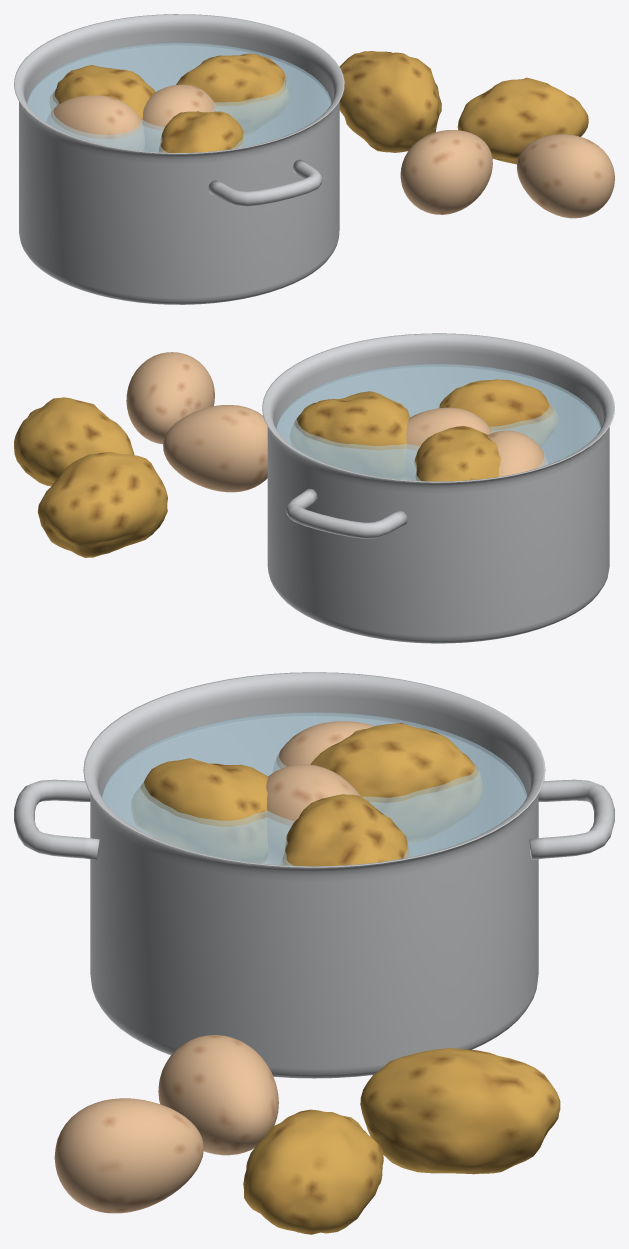
The model's file is paso-1.glb.
3 renders of one model, top to bottom at view 1: azimuth 30°, elevation 25°; view 2: azimuth 150°, elevation 25°; view 3: azimuth 270°, elevation 25°, orthographic. The views are drawn at different scales.
Parts seen in each view (by area): view 1: paso-1-0, paso-1-3, paso-1-9, paso-1-10, paso-1-12, paso-1-11, paso-1-4, paso-1-8, paso-1-6, paso-1-5, paso-1-7, paso-1-2; view 2: paso-1-0, paso-1-3, paso-1-9, paso-1-4, paso-1-11, paso-1-10, paso-1-12, paso-1-6, paso-1-5, paso-1-1, paso-1-7, paso-1-8; view 3: paso-1-0, paso-1-3, paso-1-9, paso-1-10, paso-1-12, paso-1-5, paso-1-6, paso-1-11, paso-1-4, paso-1-7, paso-1-1, paso-1-2 (+1 smaller).
Boxes of the visible parts, x1,y1,x2,y2 form: paso-1-0: [14, 14, 344, 304]; paso-1-3: [27, 42, 331, 152]; paso-1-9: [339, 51, 441, 152]; paso-1-10: [457, 77, 588, 164]; paso-1-12: [517, 134, 614, 218]; paso-1-11: [400, 130, 492, 214]; paso-1-4: [176, 53, 288, 135]; paso-1-8: [47, 95, 144, 150]; paso-1-6: [158, 111, 244, 152]; paso-1-5: [49, 65, 155, 121]; paso-1-7: [142, 84, 217, 151]; paso-1-2: [208, 159, 322, 206]; paso-1-0: [262, 333, 614, 643]; paso-1-3: [276, 364, 601, 480]; paso-1-9: [37, 452, 167, 557]; paso-1-4: [290, 391, 409, 478]; paso-1-11: [163, 405, 267, 492]; paso-1-10: [14, 397, 134, 486]; paso-1-12: [126, 352, 214, 444]; paso-1-6: [438, 379, 558, 447]; paso-1-5: [414, 425, 500, 481]; paso-1-1: [285, 488, 407, 538]; paso-1-7: [400, 407, 492, 480]; paso-1-8: [488, 430, 547, 476]; paso-1-0: [83, 672, 545, 1078]; paso-1-3: [101, 712, 527, 865]; paso-1-9: [360, 1048, 560, 1174]; paso-1-10: [243, 1109, 383, 1234]; paso-1-12: [54, 1098, 203, 1213]; paso-1-5: [310, 723, 482, 842]; paso-1-6: [131, 758, 268, 863]; paso-1-11: [158, 1035, 278, 1155]; paso-1-4: [280, 794, 409, 866]; paso-1-7: [266, 764, 360, 864]; paso-1-1: [529, 779, 614, 859]; paso-1-2: [14, 779, 99, 859].
Bounding box in the file's own units: 0.3299 × 0.0941 × 0.228.
